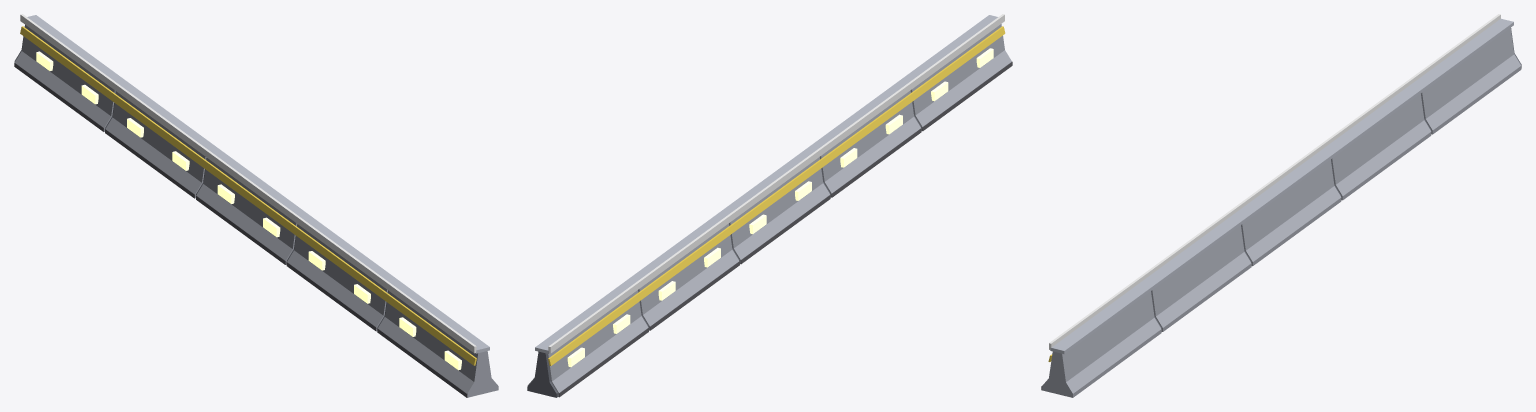
The model's file is Race_barrier.fbx.
3 views of the same model, side by side, from view 1: azimuth 30°, elevation 25°; view 2: azimuth 150°, elevation 25°; view 3: azimuth 330°, elevation 25° (orthographic).
Visible parts, largest first — view 1: Race_barrier; view 2: Race_barrier; view 3: Race_barrier.
Part boxes in pixels (x1,y1,x2,y2): Race_barrier: (14,14,498,397); Race_barrier: (527,14,1012,397); Race_barrier: (1041,14,1521,397).
Bounding box in the file's own units: 0.81 × 1.2 × 20.
